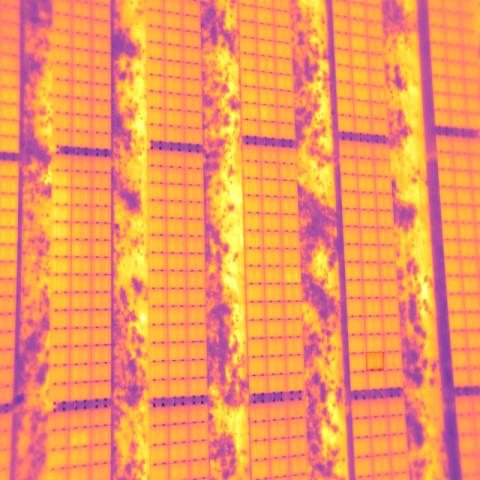fault: (366, 352, 384, 371)
